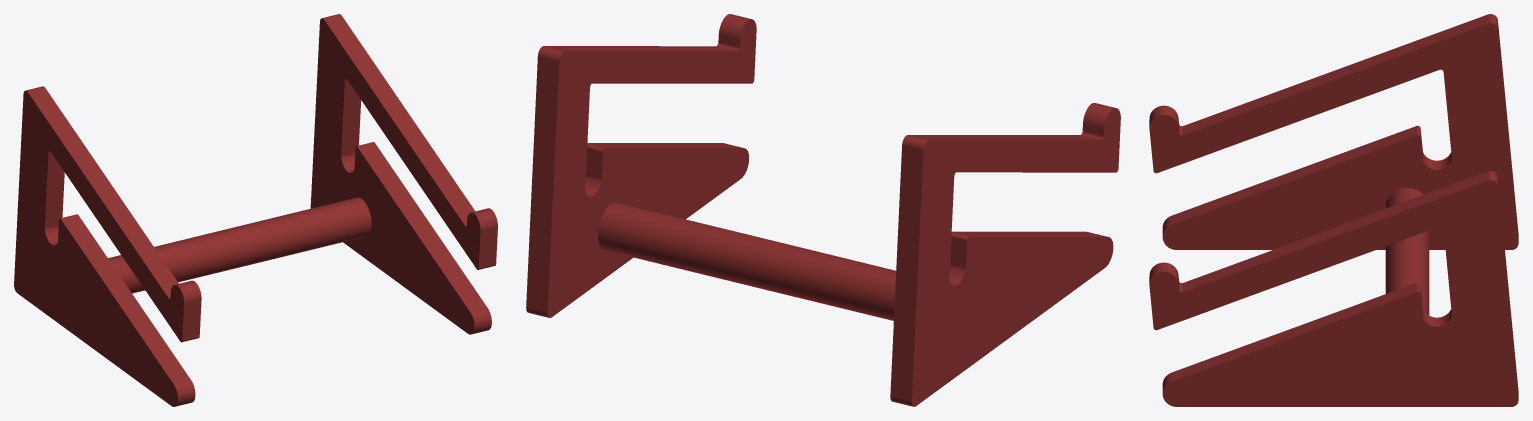
Rendered from laptop_stand_wood.glb.
The picture shows the model from 3 angles, left to right: view 1: azimuth 30°, elevation 25°; view 2: azimuth 150°, elevation 25°; view 3: azimuth 270°, elevation 25°; orthographic projection. The views are drawn at different scales.
Parts seen in each view (by area): view 1: Body3_Pine_0, Body1_Pine_0; view 2: Body3_Pine_0, Body1_Pine_0; view 3: Body1_Pine_0, Body3_Pine_0.
Part boxes in pixels (x1,y1,x2,y2): Body3_Pine_0: [14, 86, 371, 406]; Body1_Pine_0: [310, 14, 497, 334]; Body3_Pine_0: [598, 103, 1120, 406]; Body1_Pine_0: [526, 14, 756, 317]; Body1_Pine_0: [1149, 171, 1518, 406]; Body3_Pine_0: [1149, 14, 1518, 384].
Size of the model in its own units: 0.27 by 0.172 by 0.2535.
